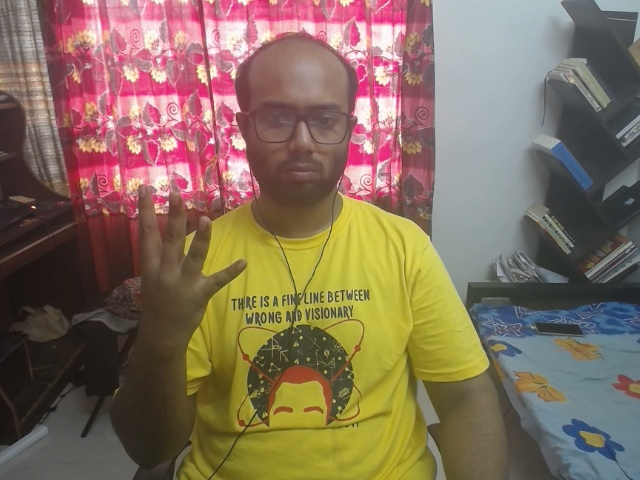four: (126, 173, 267, 353)
